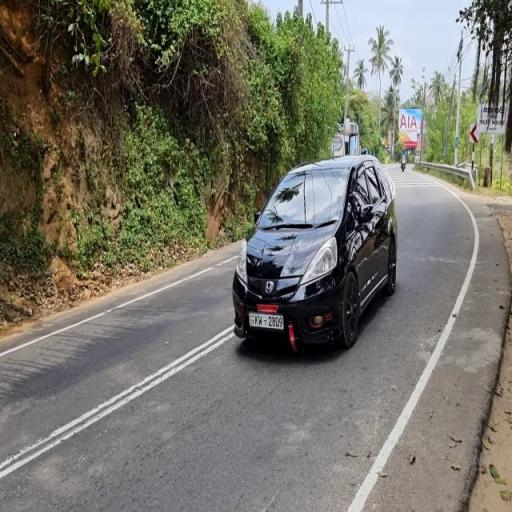double_white_line: (1, 322, 235, 483)
